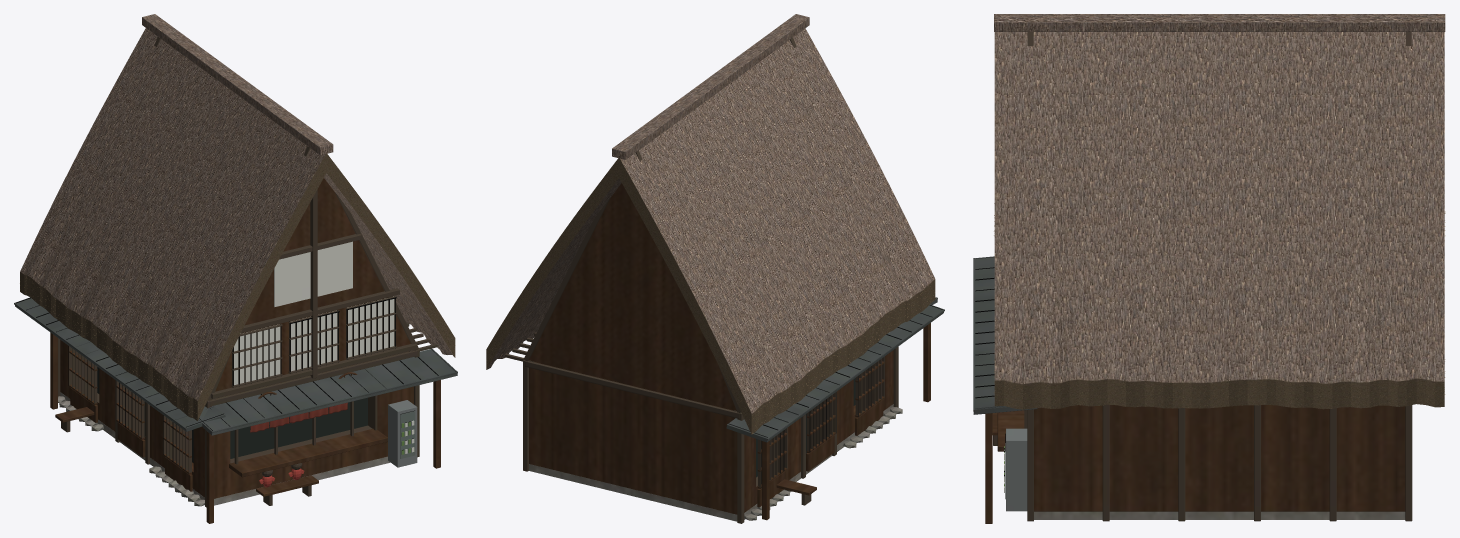
Rendered from irori-shop-v5.glb.
3 views of the same model, side by side, from view 1: azimuth 30°, elevation 25°; view 2: azimuth 150°, elevation 25°; view 3: azimuth 270°, elevation 25° (orthographic). The views are drawn at different scales.
Parts seen in each view (by area): view 1: irori-v5-roof.006, irori-v5-body.006; view 2: irori-v5-roof.006, irori-v5-body.006; view 3: irori-v5-roof.006, irori-v5-body.006.
Part boxes in pixels (<box>): irori-v5-roof.006: <box>20,14,455,420</box>; irori-v5-body.006: <box>14,37,457,523</box>; irori-v5-roof.006: <box>486,14,935,434</box>; irori-v5-body.006: <box>505,37,944,523</box>; irori-v5-roof.006: <box>994,14,1445,409</box>; irori-v5-body.006: <box>973,32,1412,523</box>.
Size of the model in its own units: 9.22 by 11.34 by 11.06.
Materials: 3 (2 with a texture image).
